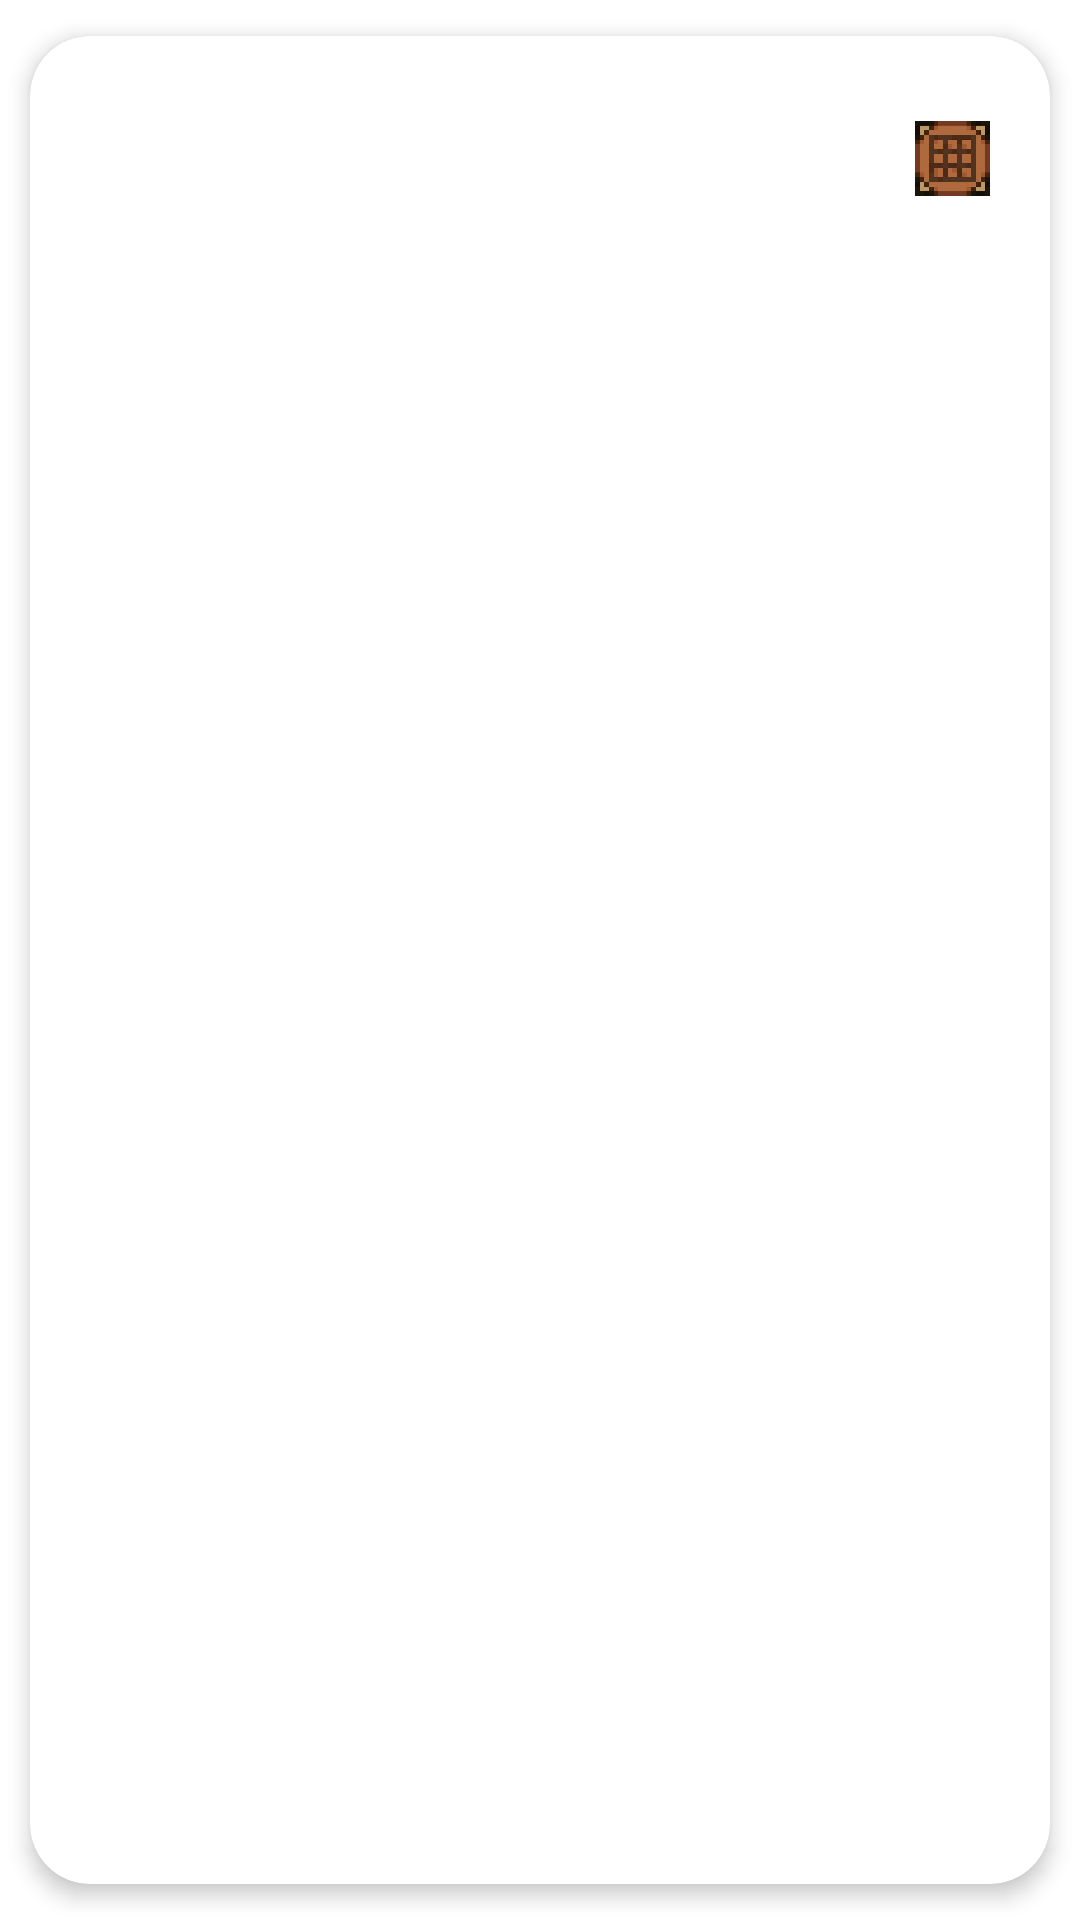

Where icons sit on this 1080w x 1920h app screen, as {"left": x1, "top": y1, "right": x2, "bottom": y2}:
craft: {"left": 915, "top": 121, "right": 990, "bottom": 196}
